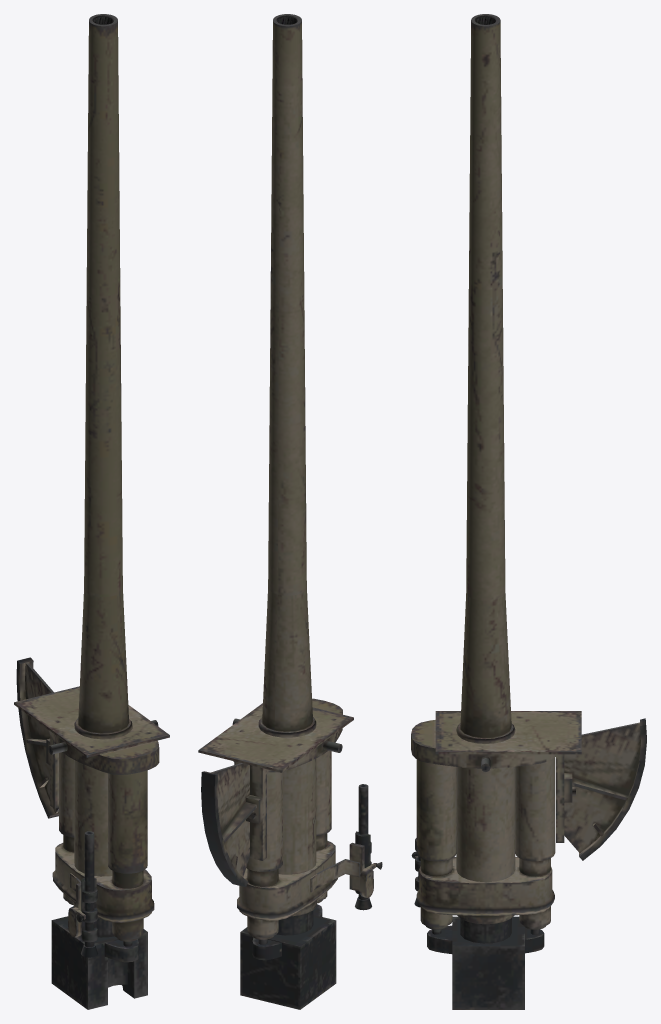
Rendered from Gun_05.glb.
3 views of the same model, side by side, from view 1: azimuth 30°, elevation 25°; view 2: azimuth 150°, elevation 25°; view 3: azimuth 270°, elevation 25° (orthographic).
Parts seen in each view (by area): view 1: set_0_group_0; view 2: set_0_group_0; view 3: set_0_group_0.
Part boxes in pixels (x1=…): set_0_group_0: x1=14, y1=14, x2=169, y2=1009; set_0_group_0: x1=198, y1=14, x2=382, y2=1009; set_0_group_0: x1=411, y1=14, x2=646, y2=1009.
Size of the model in its own units: 0.4906 by 4.05 by 0.8867.
Materials: 1 (1 with a texture image).
